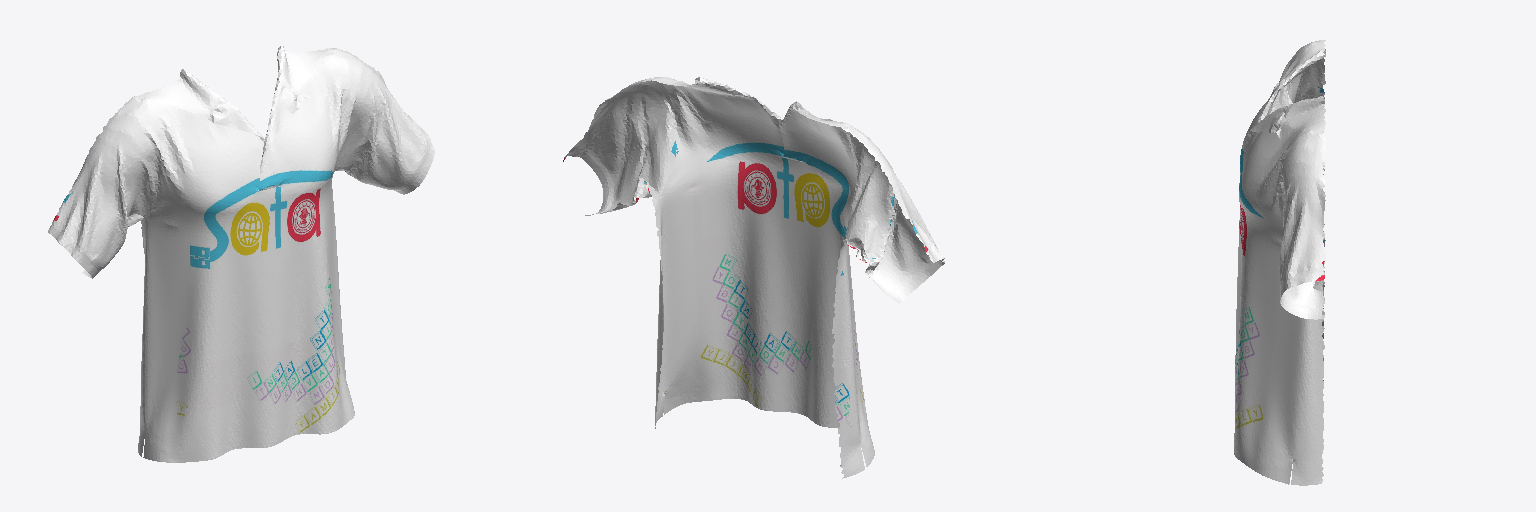
3 views of the same model, side by side, from view 1: azimuth 30°, elevation 25°; view 2: azimuth 150°, elevation 25°; view 3: azimuth 270°, elevation 25° (orthographic).
Parts seen in each view (by area): view 1: AM_102_031; view 2: AM_102_031; view 3: AM_102_031.
Part boxes in pixels (x1,y1,x2,y2): AM_102_031: (48, 46, 434, 462); AM_102_031: (563, 77, 944, 478); AM_102_031: (1234, 40, 1325, 485).
Bounding box in the file's own units: 31.43 × 29.5 × 6.75.
Materials: 1 (1 with a texture image).